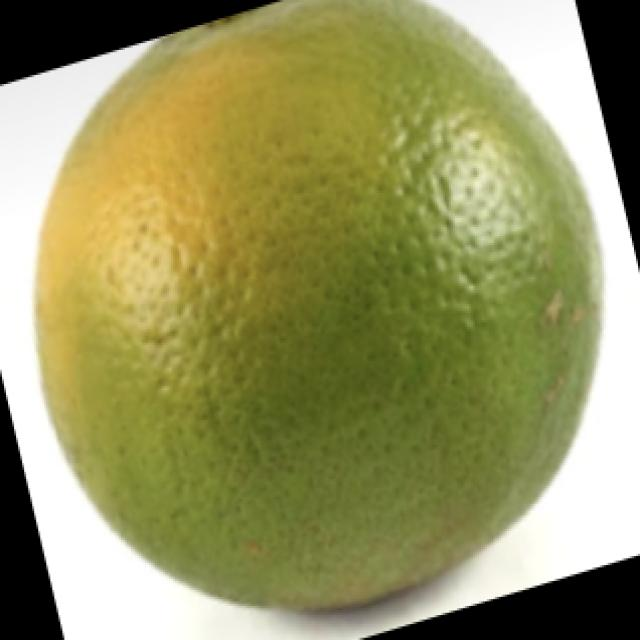fresh: (27, 11, 621, 630)
